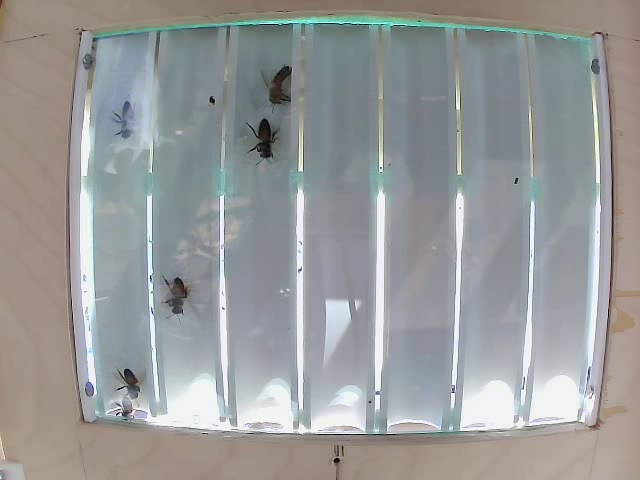bee: (148, 260, 195, 317), (249, 112, 284, 175), (110, 105, 160, 149), (263, 61, 301, 112), (112, 361, 143, 404)
